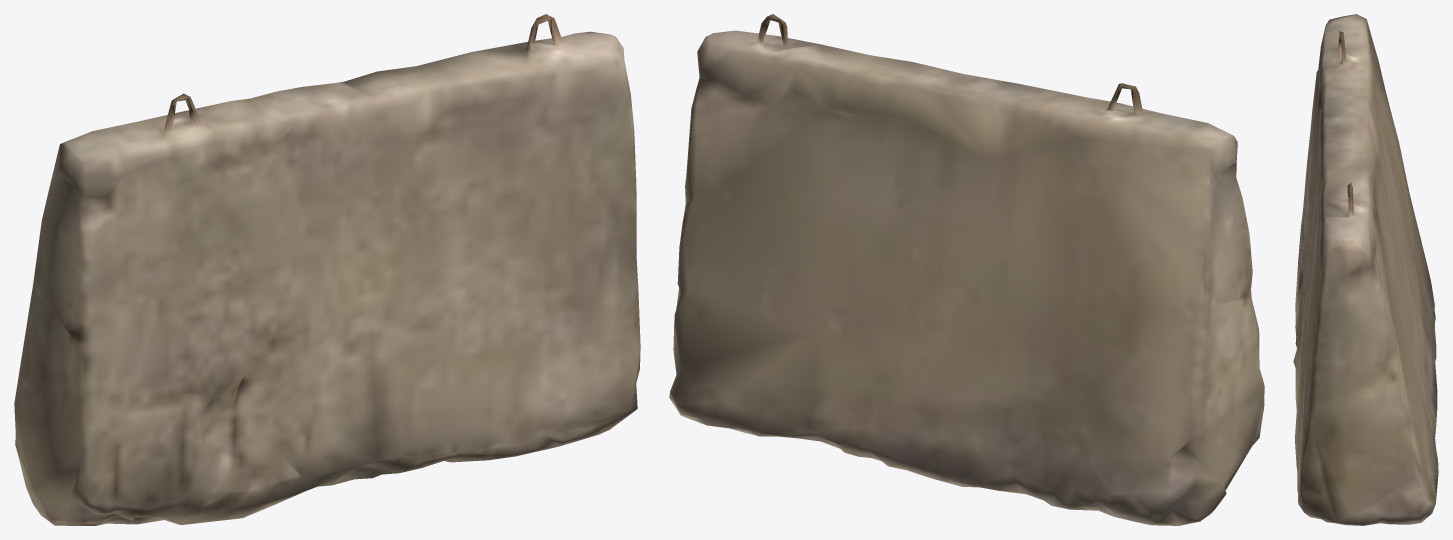
The model's file is separateur_beton_bas_lod1.glb.
The picture shows the model from 3 angles, left to right: view 1: azimuth 30°, elevation 25°; view 2: azimuth 150°, elevation 25°; view 3: azimuth 270°, elevation 25°; orthographic projection. The views are drawn at different scales.
Visible parts, largest first — view 1: concrete_road_barrier_02; view 2: concrete_road_barrier_02; view 3: concrete_road_barrier_02.
Part boxes in pixels (left/top/right/bottom): concrete_road_barrier_02: left=14, top=14, right=640, bottom=525; concrete_road_barrier_02: left=669, top=14, right=1264, bottom=525; concrete_road_barrier_02: left=1293, top=14, right=1438, bottom=525.
Size of the model in its own units: 1.56 by 1.11 by 0.4413.
Materials: 1 (1 with a texture image).
